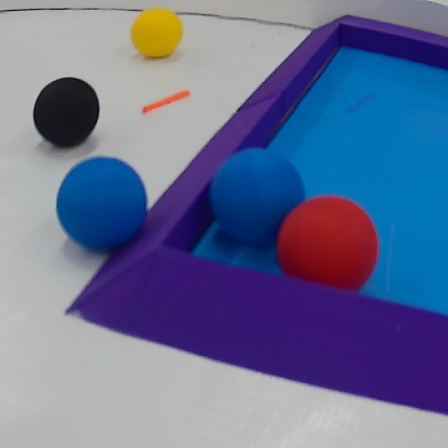black: (28, 73, 106, 149)
blue: (208, 149, 305, 251), (52, 153, 148, 255)
blue_aim: (65, 11, 448, 420)
red: (273, 194, 383, 302)
yellow: (128, 4, 184, 61)
